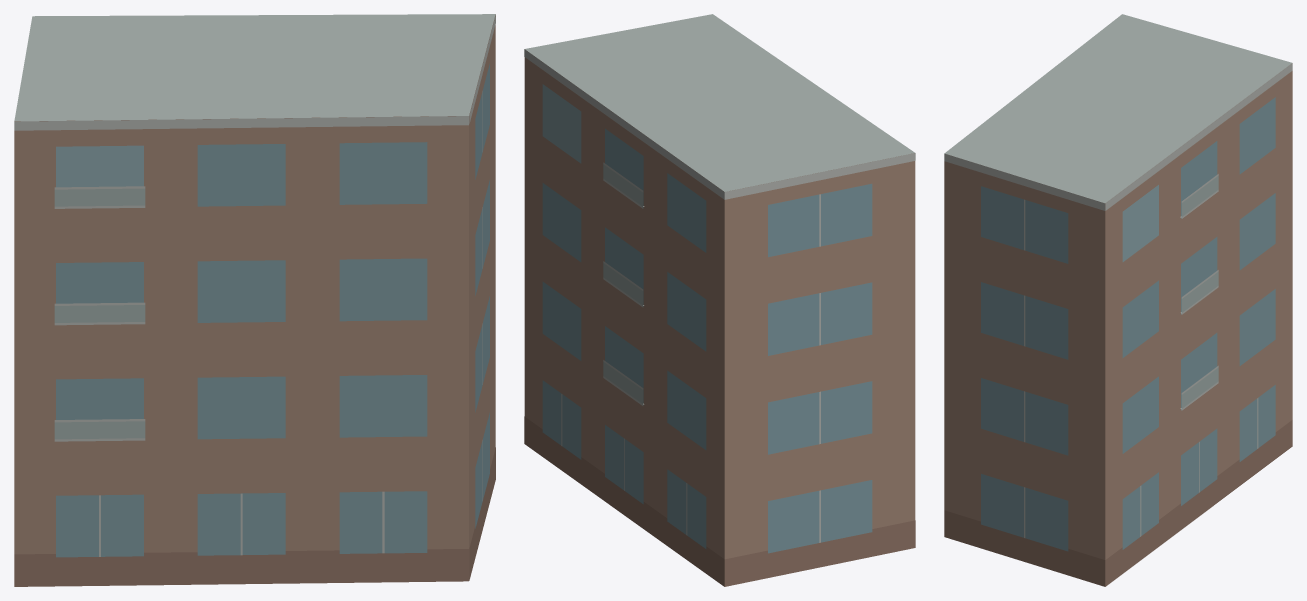
The model's file is survey-upis-32730393.glb.
3 views of the same model, side by side, from view 1: azimuth 30°, elevation 25°; view 2: azimuth 150°, elevation 25°; view 3: azimuth 270°, elevation 25° (orthographic). The views are drawn at different scales.
Visible parts, largest first — view 1: survey-upis-32730393.tmp; view 2: survey-upis-32730393.tmp; view 3: survey-upis-32730393.tmp.
Boxes of the visible parts, box(x1,y1,x2,y2) form: survey-upis-32730393.tmp: box(14, 14, 495, 586); survey-upis-32730393.tmp: box(524, 14, 915, 586); survey-upis-32730393.tmp: box(944, 14, 1292, 586).
Bounding box in the file's own units: 12.93 × 12.2 × 10.05.
